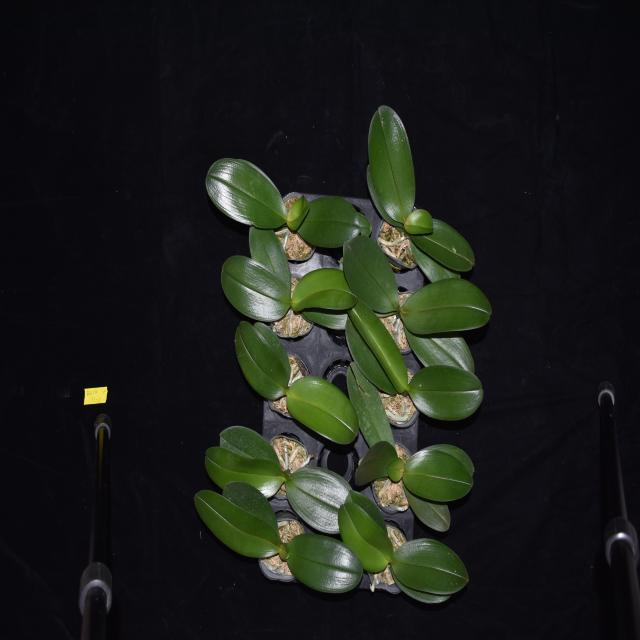leaf: (191, 484, 285, 566), (204, 157, 286, 227), (368, 101, 416, 220), (340, 308, 408, 389), (388, 538, 470, 604), (285, 376, 359, 446), (229, 321, 289, 400), (403, 208, 477, 272), (208, 431, 284, 493), (220, 256, 292, 321), (404, 281, 494, 333), (287, 533, 362, 595), (284, 471, 354, 531), (408, 365, 483, 421), (341, 237, 399, 309), (406, 448, 476, 503), (290, 194, 358, 244), (292, 266, 358, 314), (406, 325, 476, 366), (348, 440, 404, 487)
